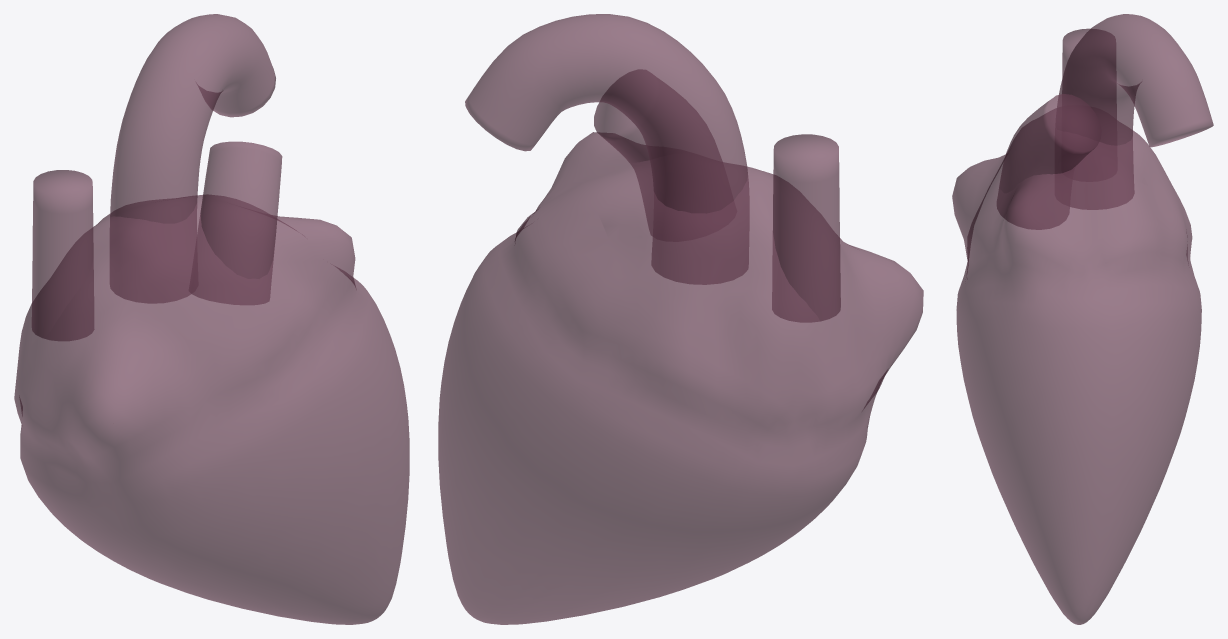
File: s2_heart_icon.glb
3 renders of one model, left to right at view 1: azimuth 30°, elevation 25°; view 2: azimuth 150°, elevation 25°; view 3: azimuth 270°, elevation 25°, orthographic. The views are drawn at different scales.
Visible parts, largest first — view 1: heart; view 2: heart; view 3: heart.
Boxes of the visible parts, x1,y1,x2,y2 form: heart: (14,14,409,624); heart: (438,14,923,624); heart: (952,14,1213,624).
Bounding box in the file's own units: 0.7771 × 1.2 × 0.5257.
